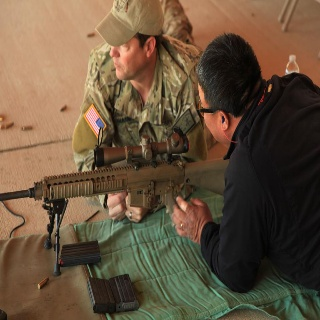rifle: (1, 127, 239, 277)
